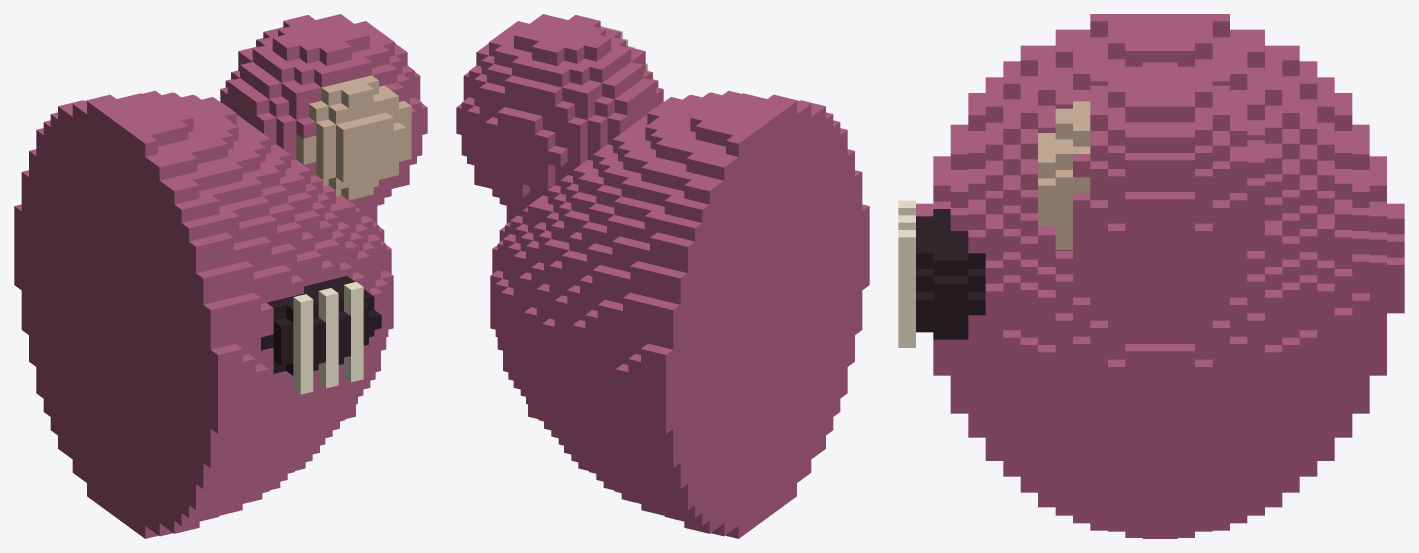
File: StitchHeadLeft.gltf
3 renders of one model, left to right at view 1: azimuth 30°, elevation 25°; view 2: azimuth 150°, elevation 25°; view 3: azimuth 270°, elevation 25°, orthographic. The views are drawn at different scales.
Size of the model in its own units: 0.92 by 1.32 by 1.16.
